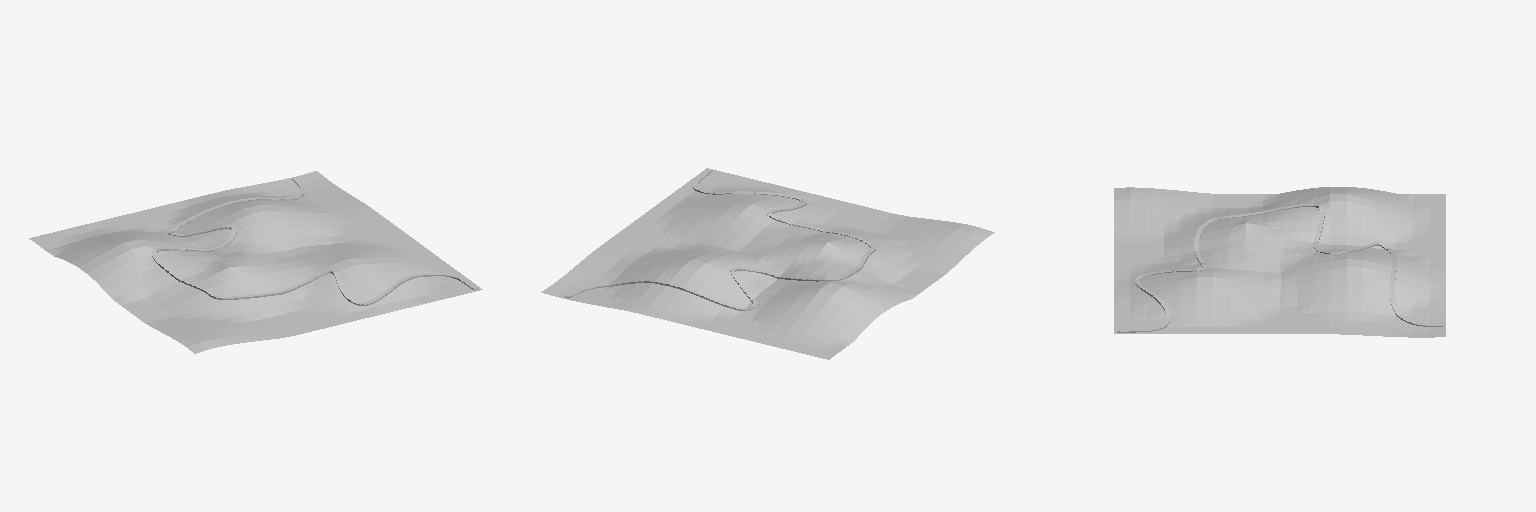
File: newGrassLand.obj
The picture shows the model from 3 angles: view 1: azimuth 30°, elevation 25°; view 2: azimuth 150°, elevation 25°; view 3: azimuth 270°, elevation 25°; orthographic projection.
Parts seen in each view (by area): view 1: grassLand, road.1; view 2: grassLand, road.1; view 3: grassLand, road.1.
Part boxes in pixels (left/top/right/bottom): grassLand: left=29, top=171, right=482, bottom=353; road.1: left=152, top=177, right=477, bottom=305; grassLand: left=541, top=168, right=994, bottom=359; road.1: left=565, top=169, right=875, bottom=310; grassLand: left=1114, top=187, right=1445, bottom=337; road.1: left=1117, top=204, right=1442, bottom=332.
Size of the model in its own units: 400 by 33.85 by 400.